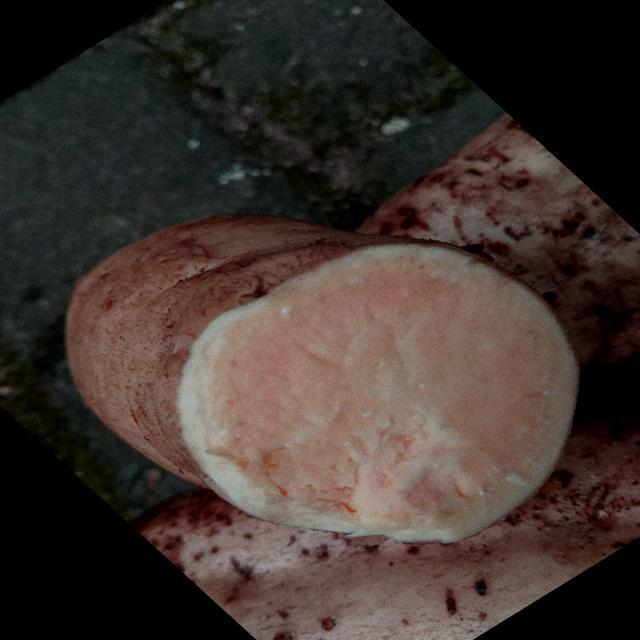Healthy Sweet Potato: (178, 245, 578, 542)
